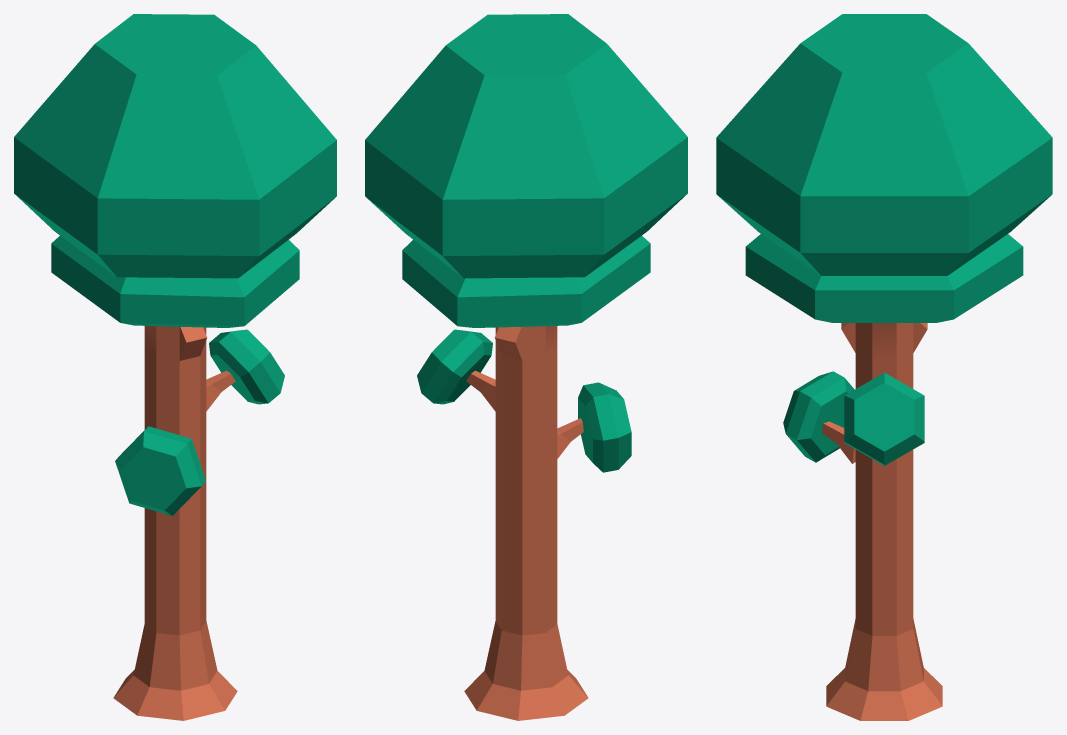
File: leaftreebig2.fbx
3 renders of one model, left to right at view 1: azimuth 30°, elevation 25°; view 2: azimuth 150°, elevation 25°; view 3: azimuth 270°, elevation 25°, orthographic.
Visible parts, largest first — view 1: leafs_cone, leafs_round (×3), trunk (×2), trunk_base, trunk_detailedB, tree_branchShortBend; view 2: leafs_cone, leafs_round (×3), trunk (×2), trunk_base, trunk_detailedB, tree_branchShortBend (×2); view 3: leafs_cone, leafs_round (×3), trunk (×2), trunk_base, trunk_detailedB, tree_branchShortBend.
Part boxes in pixels (left/top/right/bottom): leafs_cone: left=14, top=14, right=336, bottom=278; leafs_round (×3): left=51, top=235, right=299, bottom=515; trunk (×2): left=144, top=347, right=206, bottom=635; trunk_base: left=113, top=621, right=237, bottom=720; trunk_detailedB: left=144, top=326, right=207, bottom=360; tree_branchShortBend: left=206, top=370, right=235, bottom=411; leafs_cone: left=365, top=14, right=687, bottom=278; leafs_round (×3): left=402, top=235, right=650, bottom=472; trunk (×2): left=495, top=345, right=557, bottom=635; trunk_base: left=464, top=621, right=588, bottom=720; trunk_detailedB: left=494, top=326, right=557, bottom=360; tree_branchShortBend (×2): left=466, top=370, right=583, bottom=458; leafs_cone: left=716, top=14, right=1052, bottom=275; leafs_round (×3): left=745, top=234, right=1023, bottom=465; trunk (×2): left=855, top=353, right=913, bottom=635; trunk_base: left=826, top=619, right=942, bottom=720; trunk_detailedB: left=841, top=323, right=927, bottom=360; tree_branchShortBend: left=822, top=421, right=855, bottom=463.
Size of the model in its own units: 17.33 by 45 by 21.02.
